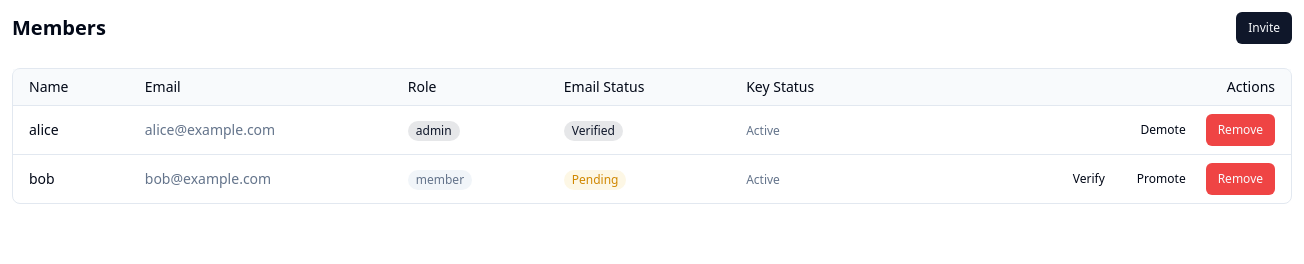
OrgMembersTab › surfaces an error message when verifyMember fails (no swallowed errors)
The width and height of the screenshot is (1304, 264).
Click the button "Verify": (1089, 179) left=1061, top=163, right=1117, bottom=195
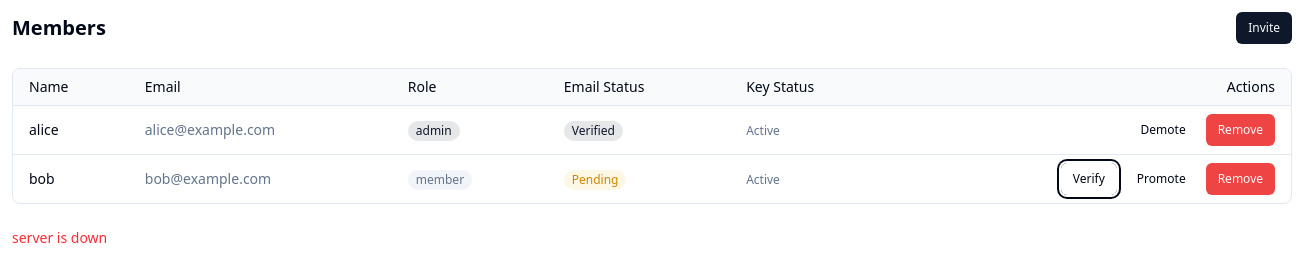
Check: the text "server is down" is shown, box left=12, top=228, right=107, bottom=247
